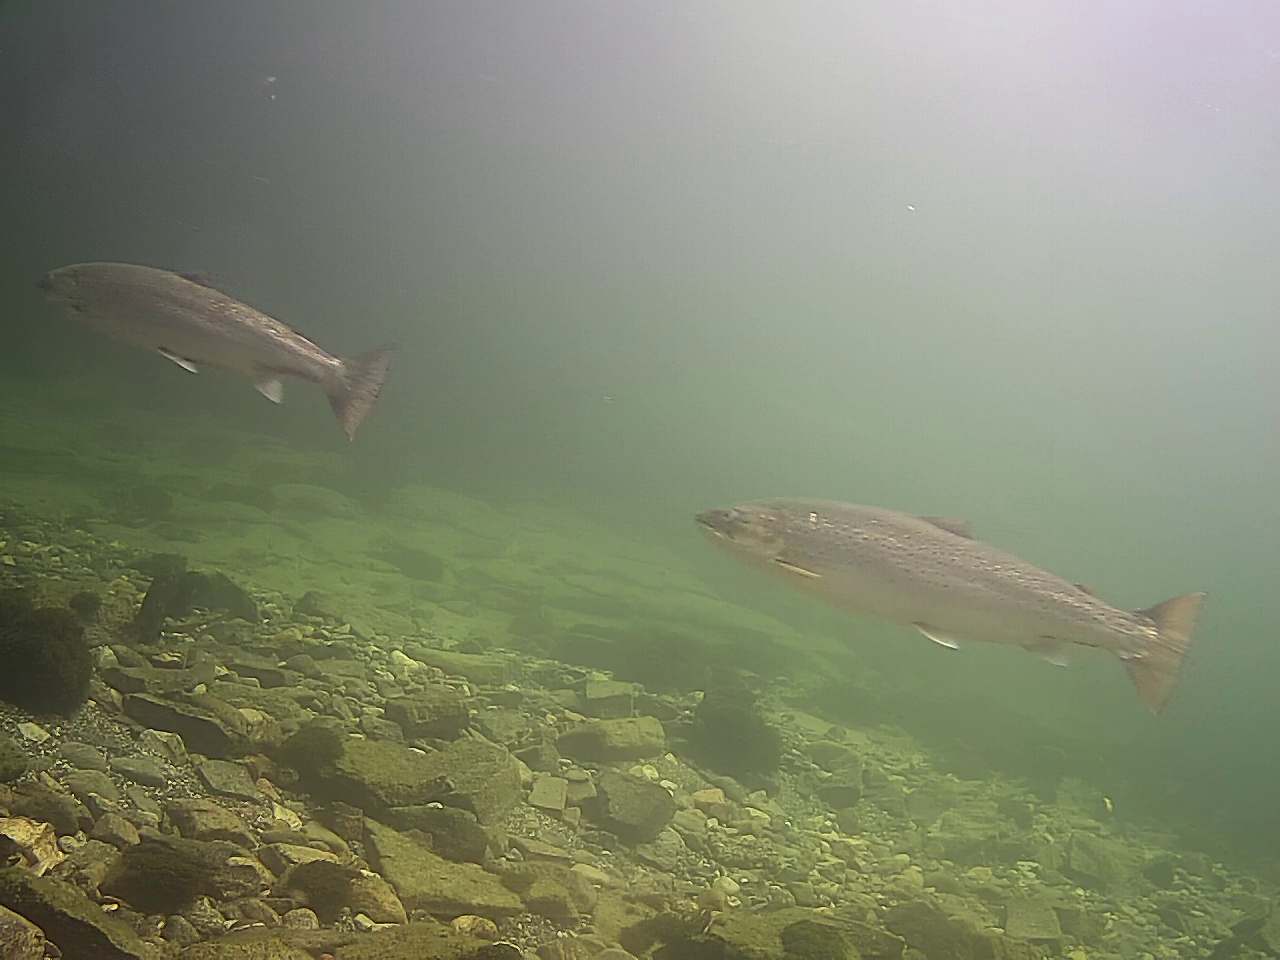salmon: (691, 497, 1204, 715), (33, 259, 398, 441)
